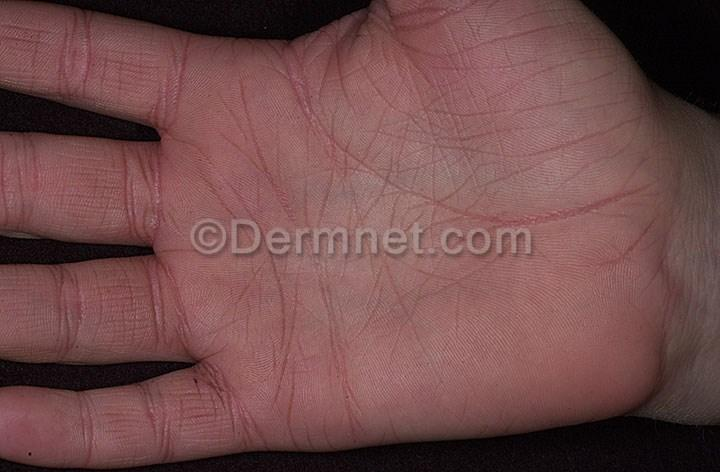liquenificacion 1: (0, 0, 660, 468)
